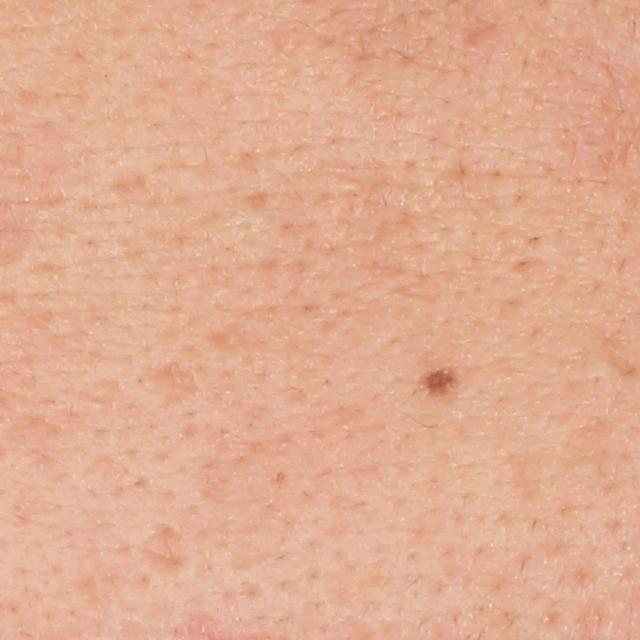atrophic_scar: (128, 519, 194, 575), (144, 360, 198, 413)
nevus: (417, 358, 463, 400)
